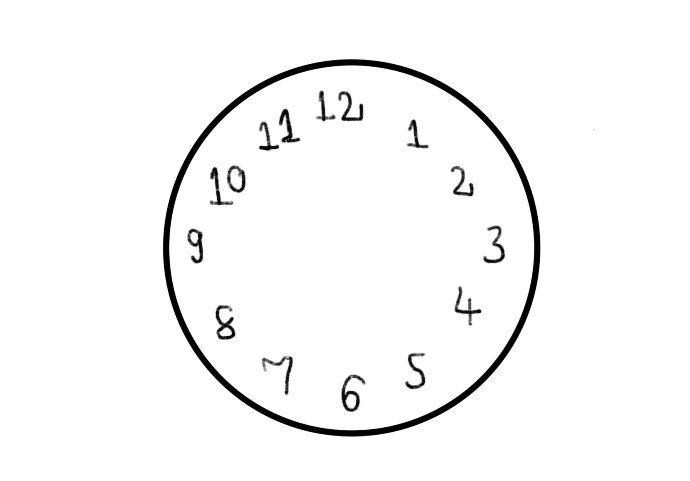eight: (212, 300, 239, 341)
eleven: (253, 109, 301, 154)
five: (403, 350, 429, 392)
four: (452, 283, 483, 329)
nine: (183, 224, 209, 272)
one: (404, 117, 434, 154)
seven: (257, 352, 295, 398)
six: (339, 371, 369, 417)
ten: (205, 161, 249, 205)
three: (483, 222, 506, 266)
twelve: (313, 88, 369, 126)
two: (448, 159, 478, 198)
